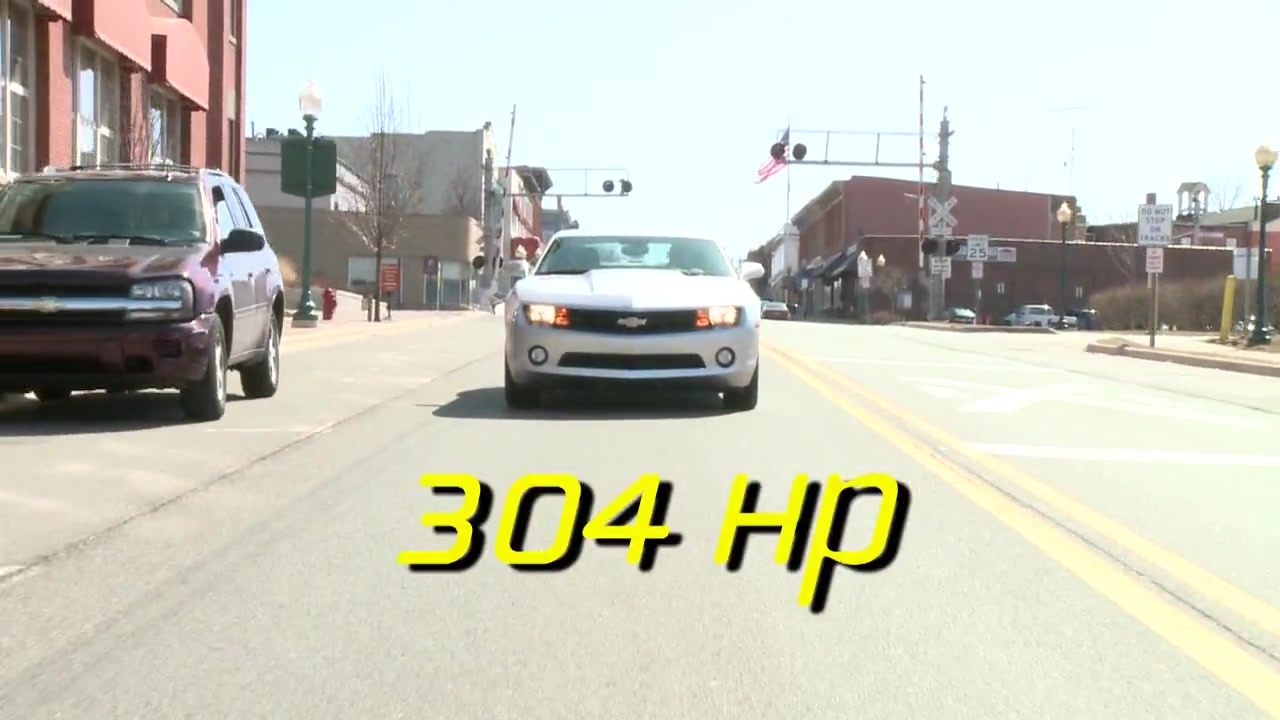car: (501, 226, 768, 409)
